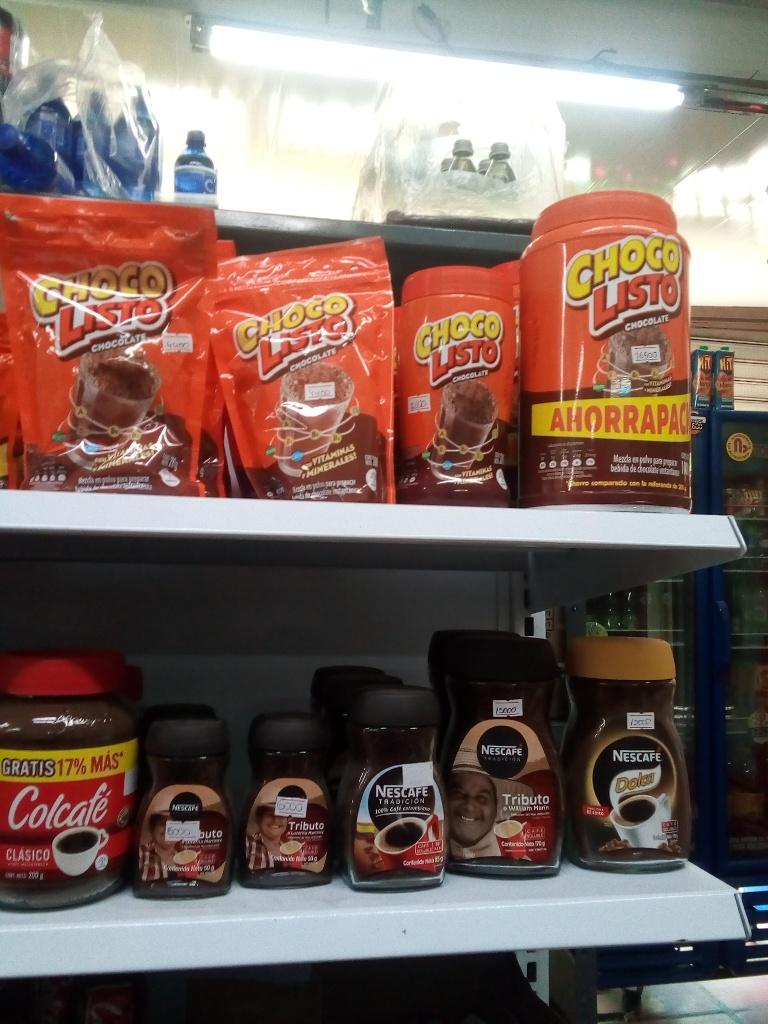COL0170103TRR00100: (523, 195, 697, 513)
